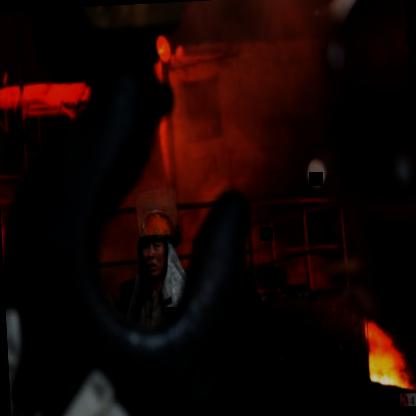helmet: (134, 202, 182, 282)
